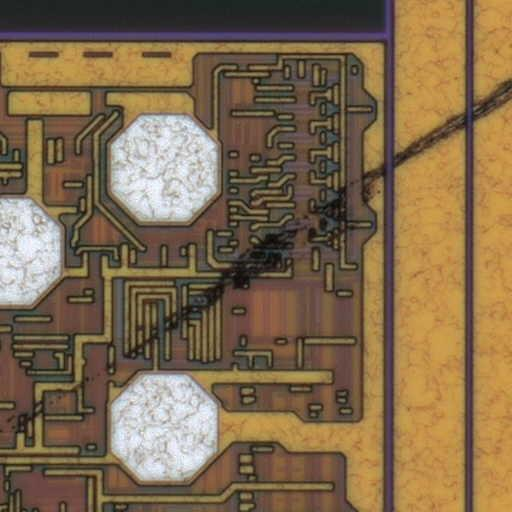SCRATCH: (1, 75, 512, 450)
